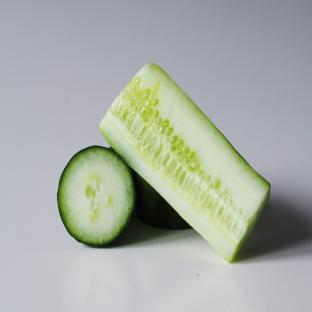Cucumber: (99, 64, 270, 261), (58, 146, 135, 246), (133, 171, 191, 229)
